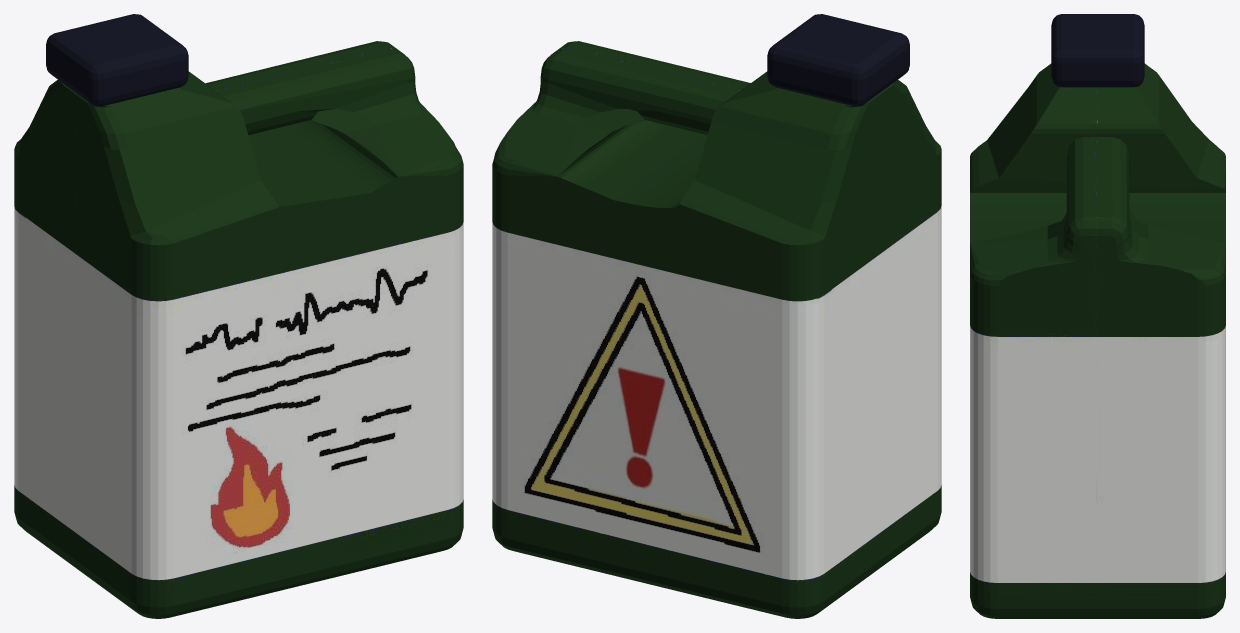
Rendered from MilitaryBottle.fbx.
The picture shows the model from 3 angles, left to right: view 1: azimuth 30°, elevation 25°; view 2: azimuth 150°, elevation 25°; view 3: azimuth 270°, elevation 25°; orthographic projection. The views are drawn at different scales.
Parts seen in each view (by area): view 1: Cube; view 2: Cube; view 3: Cube.
Boxes of the visible parts, x1,y1,x2,y2 form: Cube: (14, 14, 463, 618); Cube: (492, 14, 941, 618); Cube: (970, 14, 1225, 618).
Bounding box in the file's own units: 204 × 307 × 152.
Materials: 1 (1 with a texture image).
